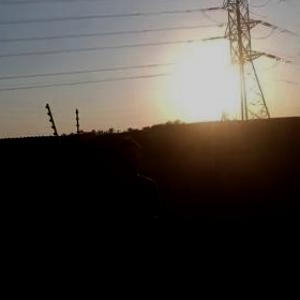follow: (94, 129, 170, 299)
